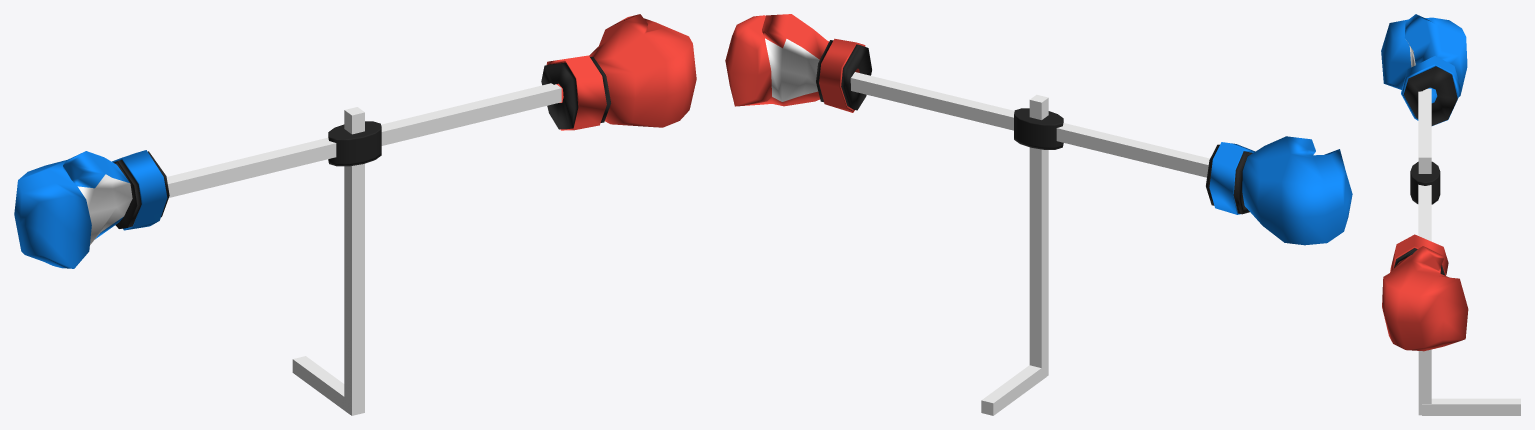
Rendered from Glove_Rotation2.fbx.
The picture shows the model from 3 angles, left to right: view 1: azimuth 30°, elevation 25°; view 2: azimuth 150°, elevation 25°; view 3: azimuth 270°, elevation 25°; orthographic projection. The views are drawn at different scales.
Visible parts, largest first — view 1: Punching_Glove_Red.004, Punching_Glove_Red.003, Rotation_Support, Extended_Hook, Ground_Hook; view 2: Punching_Glove_Red.003, Punching_Glove_Red.004, Rotation_Support, Extended_Hook, Ground_Hook; view 3: Punching_Glove_Red.004, Punching_Glove_Red.003, Rotation_Support, Ground_Hook, Extended_Hook.
Part boxes in pixels (x1,y1,x2,y2): Punching_Glove_Red.004: (541,14,696,130); Punching_Glove_Red.003: (14,150,169,268); Rotation_Support: (166,83,561,197); Extended_Hook: (344,107,364,415); Ground_Hook: (292,356,349,414); Punching_Glove_Red.003: (1206,136,1352,245); Punching_Glove_Red.004: (725,14,871,112); Rotation_Support: (850,72,1209,177); Extended_Hook: (1029,94,1048,379); Ground_Hook: (981,365,1045,415); Punching_Glove_Red.004: (1382,234,1468,351); Punching_Glove_Red.003: (1381,14,1467,125); Rotation_Support: (1410,88,1440,241); Ground_Hook: (1422,398,1520,415); Extended_Hook: (1418,152,1431,415).
Size of the model in its own units: 438 by 205 by 92.73.
